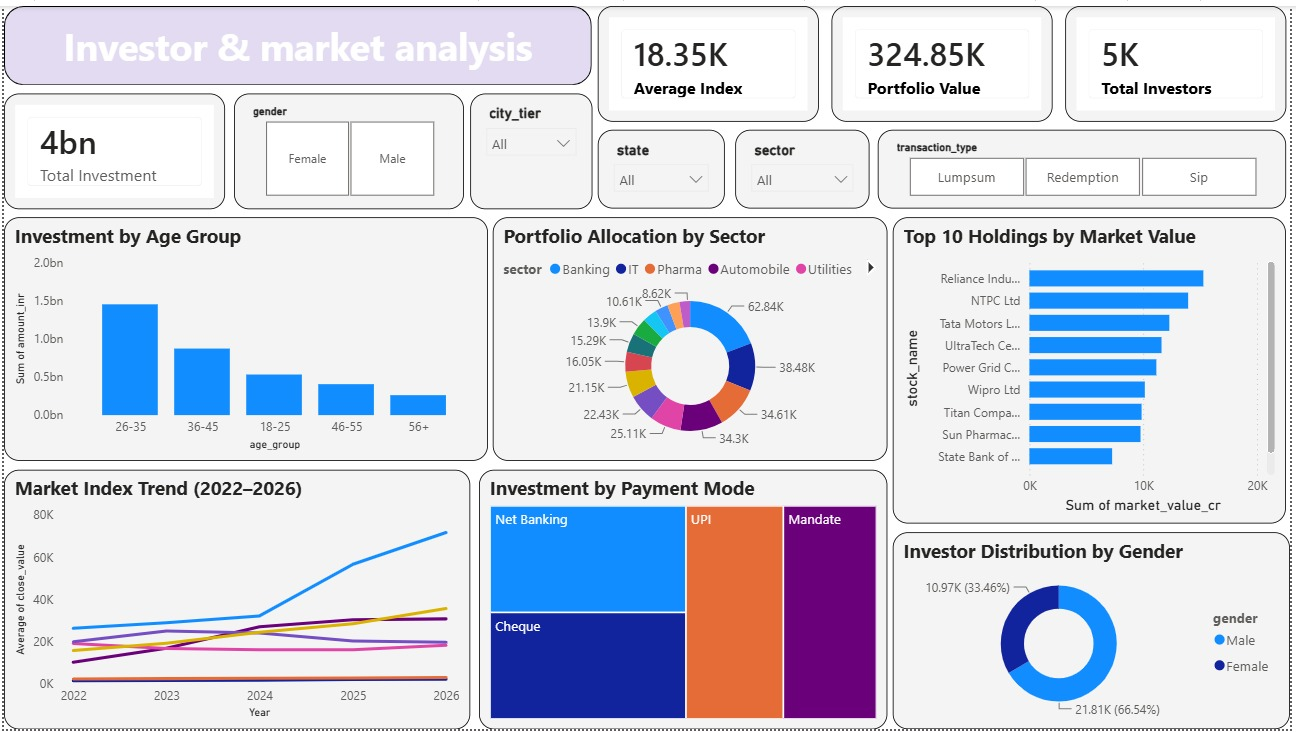

The dashboard page shown, as its layout file describes it:
{"tool":"powerbi","page":{"name":"Page 4","canvas":[1280,720],"ordinal":2},"visuals":[{"type":"shape","box":[0,0,585,78.8],"z":0},{"type":"slicer","fields":{"Values":["08_investor_transactions_cleaned.transaction_type"]},"box":[870,123.8,406.2,78.8],"z":1000},{"type":"slicer","fields":{"Values":["08_investor_transactions_cleaned.city_tier"]},"box":[463.8,87.5,121.2,115],"z":2000},{"type":"slicer","fields":{"Values":["08_investor_transactions_cleaned.gender"]},"box":[228.8,87.5,228.8,115],"z":3000},{"type":"slicer","fields":{"Values":["08_investor_transactions_cleaned.state"]},"box":[591.2,123.8,126.2,78.8],"z":4000},{"type":"cardVisual","fields":{"Data":["10_benchmark_indices_cleaned.Average Index"]},"box":[591.2,0,220,115],"z":5000},{"type":"cardVisual","fields":{"Data":["09_portfolio_holdings_cleaned.Portfolio Value"]},"box":[823.8,0,220,115],"z":6000},{"type":"cardVisual","fields":{"Data":["08_investor_transactions_cleaned.Total Investors"]},"box":[1056.2,0,220,115],"z":7000},{"type":"slicer","fields":{"Values":["09_portfolio_holdings_cleaned.sector"]},"box":[727.5,123.8,133.8,78.8],"z":7001},{"type":"cardVisual","fields":{"Data":["08_investor_transactions_cleaned.Total Investment"]},"box":[0,87.5,220,115],"z":7002},{"type":"clusteredColumnChart","title":"Investment by Age Group","fields":{"Category":["08_investor_transactions_cleaned.age_group"],"Y":["Sum(08_investor_transactions_cleaned.amount_inr)"]},"box":[0,210,481.2,242.5],"z":7003},{"type":"donutChart","title":"Investor Distribution by Gender","fields":{"Category":["08_investor_transactions_cleaned.gender"],"Y":["CountNonNull(08_investor_transactions_cleaned.investor_id)"]},"box":[885,523.8,395,196.2],"z":7004},{"type":"treemap","title":"Investment by Payment Mode","fields":{"Group":["08_investor_transactions_cleaned.payment_mode"],"Values":["Sum(08_investor_transactions_cleaned.amount_inr)"]},"box":[472.5,461.2,406.2,258.8],"z":7005},{"type":"barChart","title":"Top 10 Holdings by Market Value","fields":{"Category":["09_portfolio_holdings_cleaned.stock_name"],"Y":["Sum(09_portfolio_holdings_cleaned.market_value_cr)"]},"box":[885,210,391.2,305],"z":7006},{"type":"donutChart","title":"Portfolio Allocation by Sector","fields":{"Category":["09_portfolio_holdings_cleaned.sector"],"Y":["Sum(09_portfolio_holdings_cleaned.market_value_cr)"]},"box":[486.2,210,392.5,242.5],"z":7007},{"type":"lineChart","title":"Market Index Trend (2022–2026)","fields":{"Category":["10_benchmark_indices_cleaned.date.Variation.Date Hierarchy.Year"],"Y":["Avg(10_benchmark_indices_cleaned.close_value)"],"Series":["10_benchmark_indices_cleaned.index_name"]},"box":[0,461.2,463.8,258.8],"z":7008}]}

Visuals, with their boxes in screenshot pixels (x1, y1, x2, y2), scaled from the page's 1280x720 canvas onto the 1296x732 screenshot:
shape: [0,0,592,80]
slicer - 08_investor_transactions_cleaned.transaction_type: [881,126,1292,206]
slicer - 08_investor_transactions_cleaned.city_tier: [470,89,592,206]
slicer - 08_investor_transactions_cleaned.gender: [232,89,463,206]
slicer - 08_investor_transactions_cleaned.state: [599,126,726,206]
cardVisual - 10_benchmark_indices_cleaned.Average Index: [599,0,821,117]
cardVisual - 09_portfolio_holdings_cleaned.Portfolio Value: [834,0,1057,117]
cardVisual - 08_investor_transactions_cleaned.Total Investors: [1069,0,1292,117]
slicer - 09_portfolio_holdings_cleaned.sector: [737,126,872,206]
cardVisual - 08_investor_transactions_cleaned.Total Investment: [0,89,223,206]
"Investment by Age Group" clusteredColumnChart: [0,214,487,460]
"Investor Distribution by Gender" donutChart: [896,533,1295,731]
"Investment by Payment Mode" treemap: [478,469,890,731]
"Top 10 Holdings by Market Value" barChart: [896,214,1292,524]
"Portfolio Allocation by Sector" donutChart: [492,214,890,460]
"Market Index Trend (2022–2026)" lineChart: [0,469,470,731]
